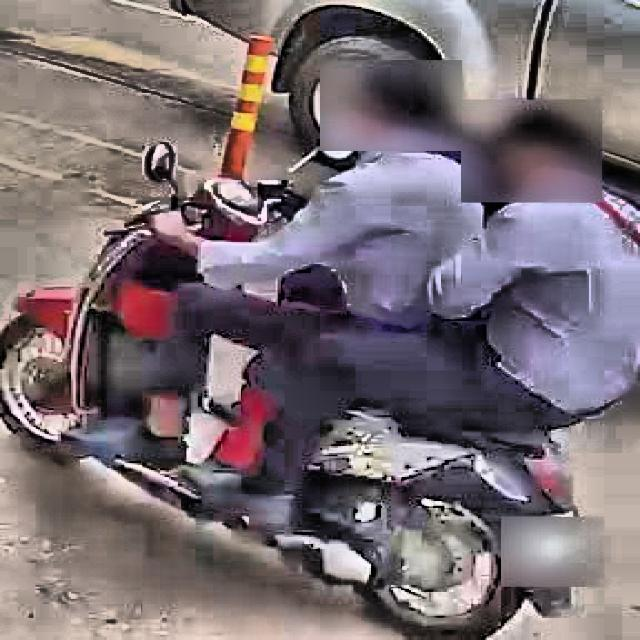motorcycle: (1, 145, 640, 636)
